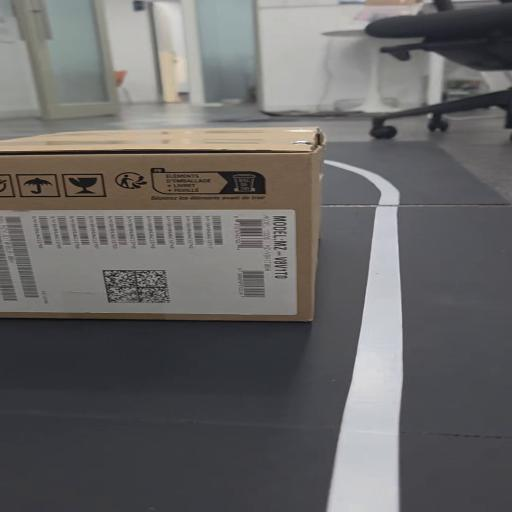Box: (6, 128, 323, 329)
